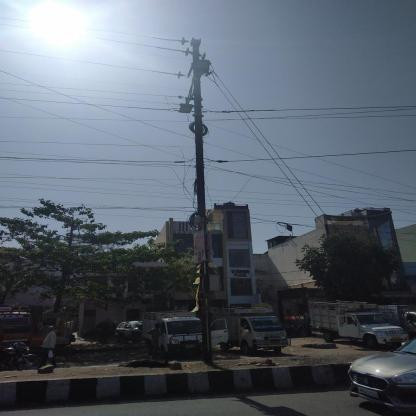Electrical Pole: (171, 35, 230, 363)
